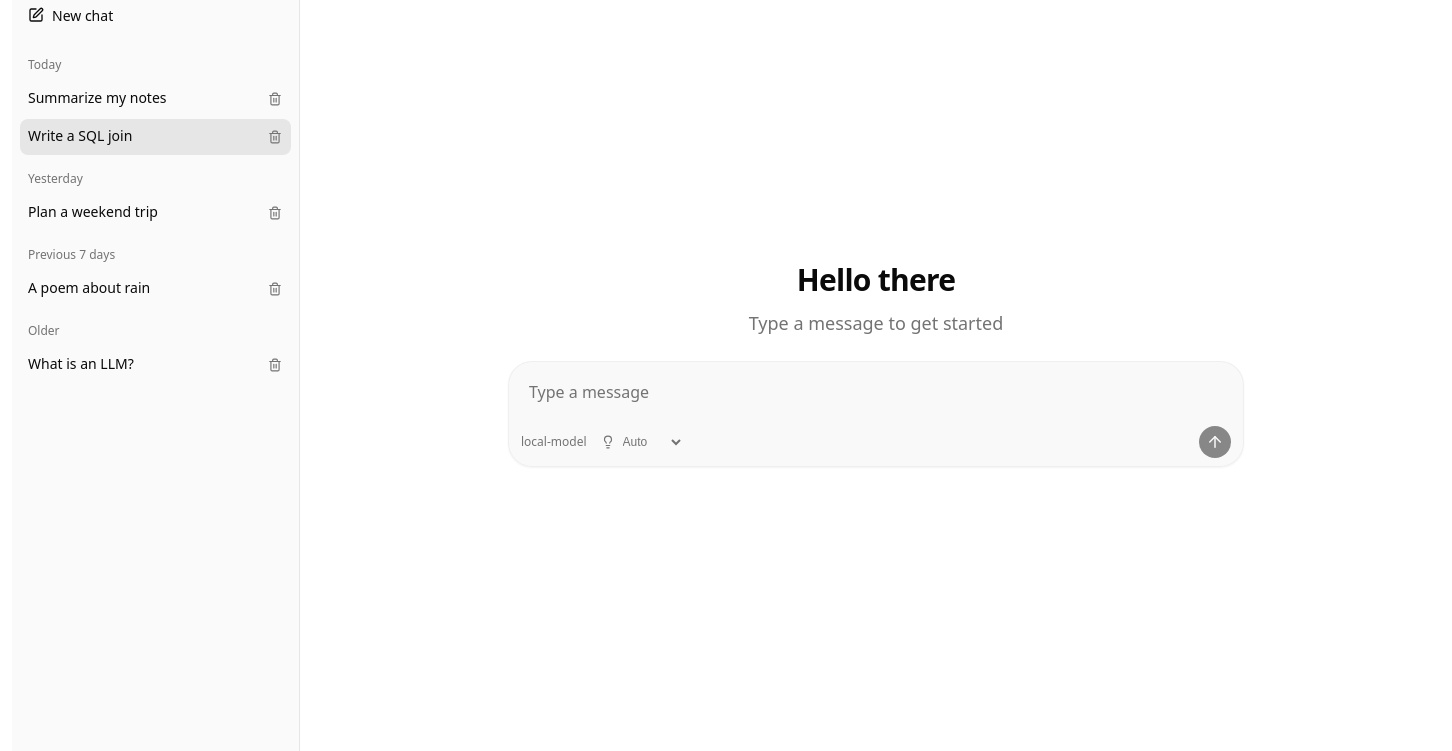
Test: a confirmed delete removes the conversation; deleting the open one starts a new chat
The width and height of the screenshot is (1452, 751).
expect the link "New chat" is shown: met, box [28,6,113,24]
Step 1. Click the button named "Delete “Write a SQL join”" → (275, 137), box [259,121,291,153]
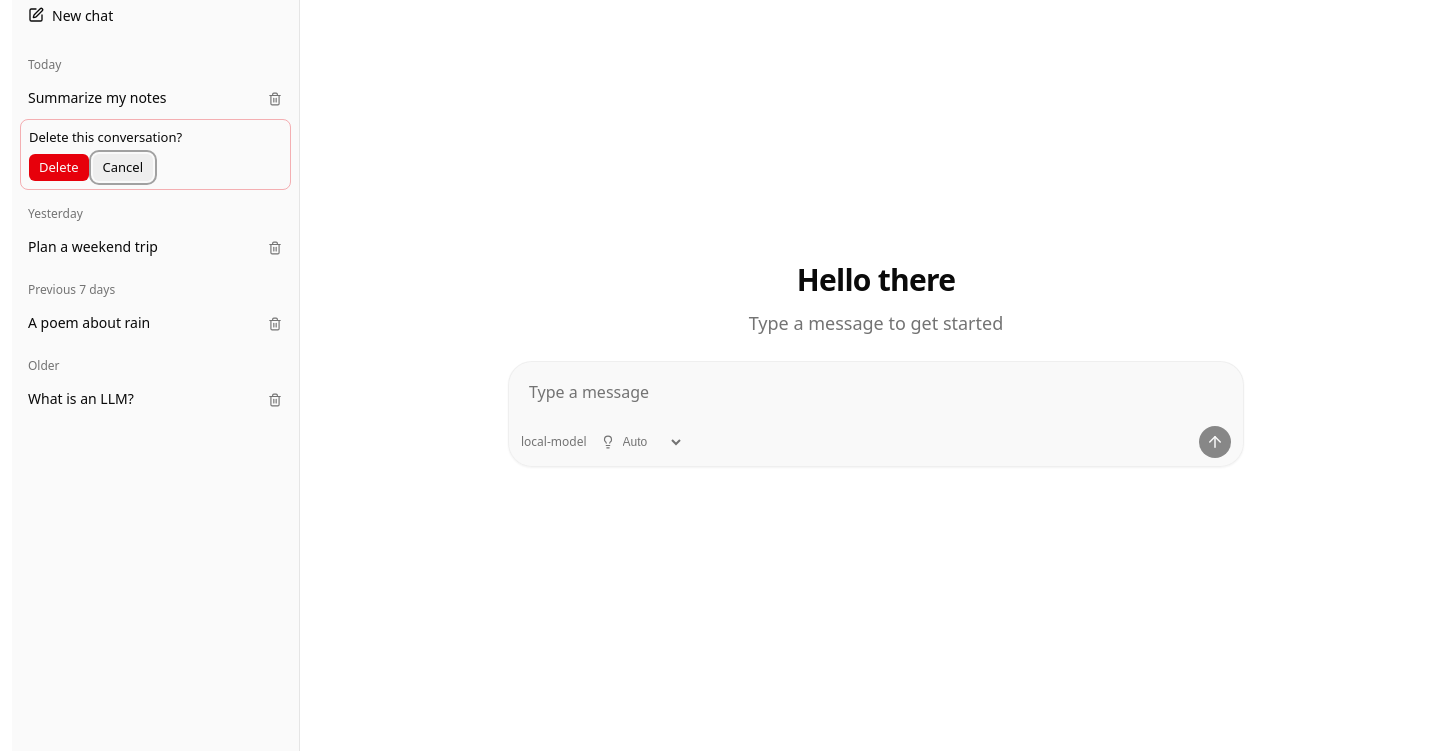
Step 2. Click the button "Delete" → (59, 167), box [29,154,88,181]
(page scrolled)
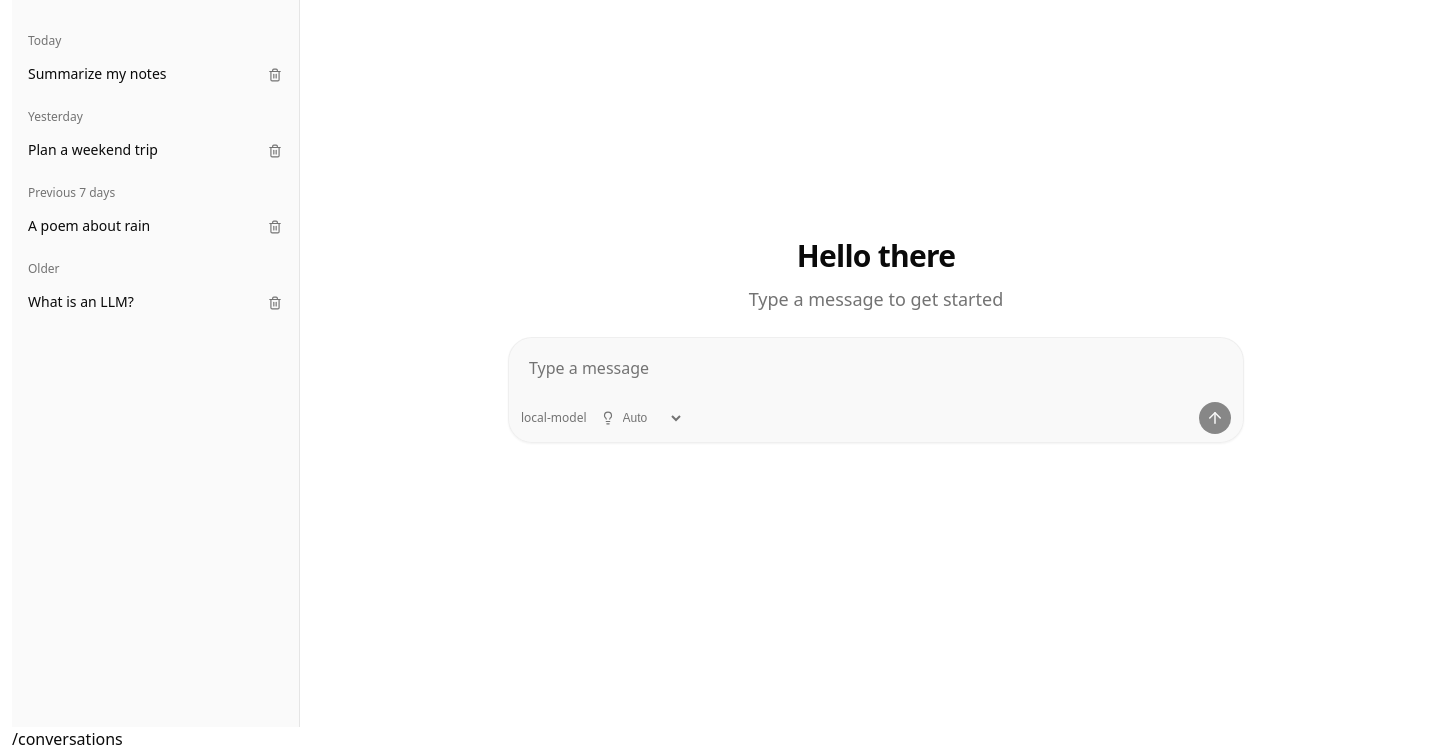
expect the link "Write a SQL join" is not shown: met
expect the text with test id "location" reads "/conversations": met, box [12,728,123,750]
